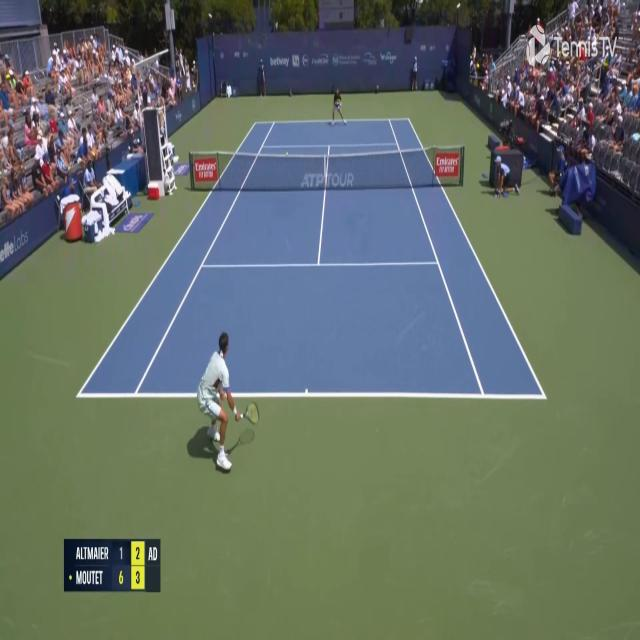tennis-player: (190, 327, 261, 475), (330, 86, 347, 126)
